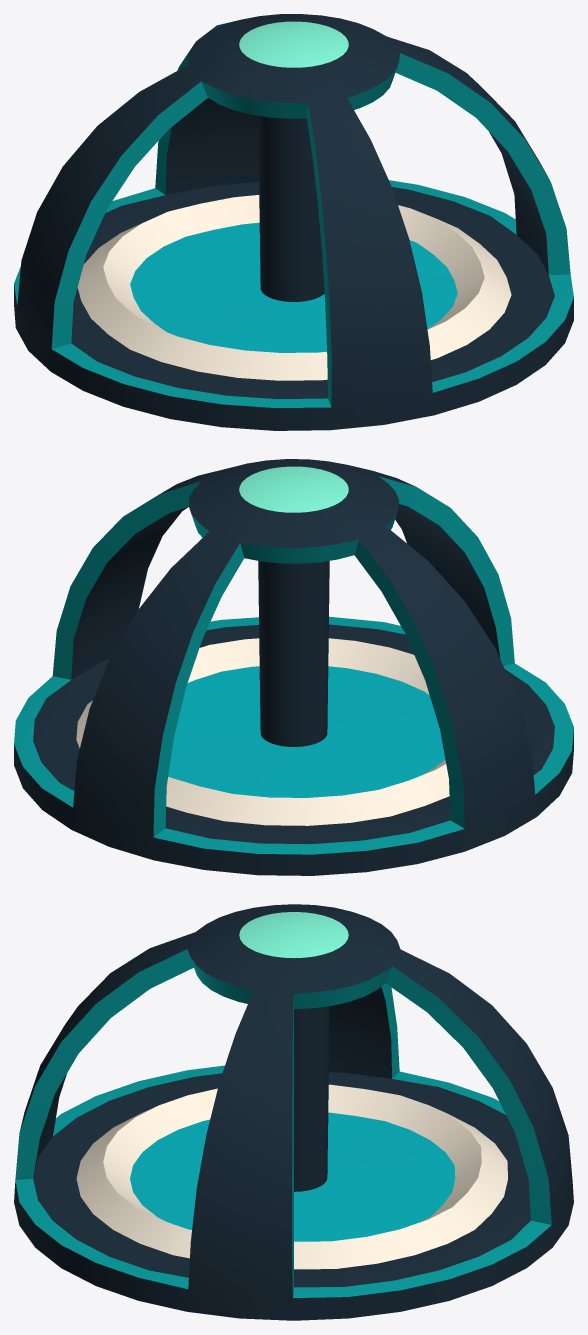
Rendered from Buildings_GlassBase.fbx.
The picture shows the model from 3 angles, top to bottom: view 1: azimuth 30°, elevation 25°; view 2: azimuth 150°, elevation 25°; view 3: azimuth 270°, elevation 25°; orthographic projection.
Parts seen in each view (by area): view 1: GlassBase; view 2: GlassBase; view 3: GlassBase.
Boxes of the visible parts, box(x1,y1,x2,y2) form: GlassBase: box(14, 14, 573, 430); GlassBase: box(14, 459, 573, 875); GlassBase: box(14, 904, 573, 1320).
Bounding box in the file's own units: 216 × 116 × 216.
